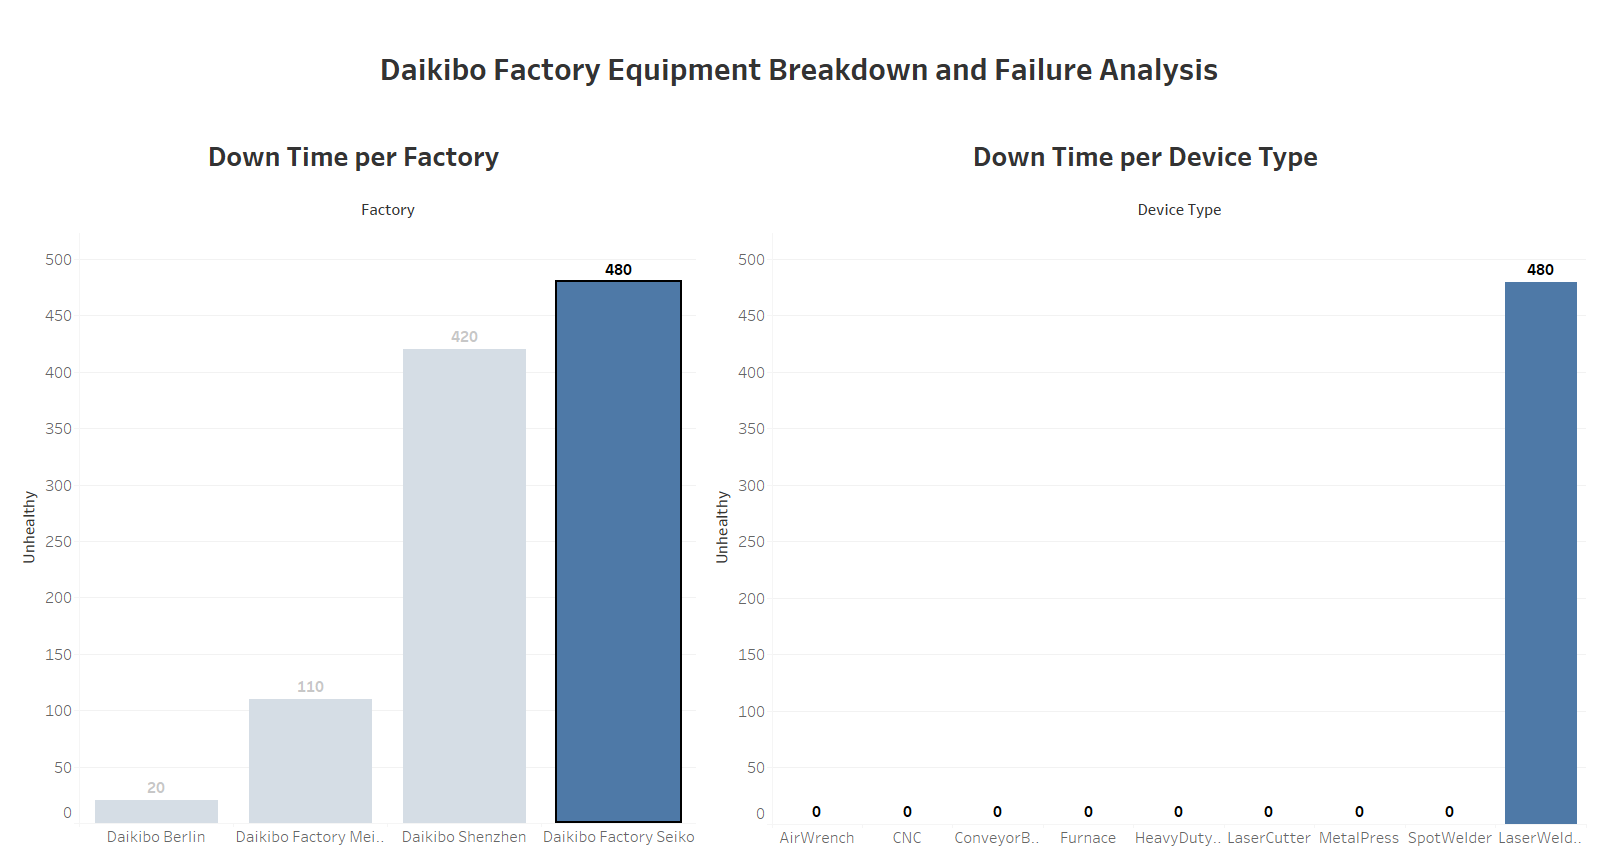

What the dashboard file says about the page in this screenshot:
{"tool":"tableau","page":{"name":"Dashboard","canvas":[1000,1000],"units":"permille","ordinal":0},"visuals":[{"type":"title","box":[5,9.3,990,141.9]},{"type":"worksheet","title":"Down Time per Factory","mark":"Bar","rows":["Calculation_879046358512263168"],"cols":["factory"],"box":[5,151.2,433.1,839.5]},{"type":"worksheet","title":"Down Time per Device Type","mark":"Bar","rows":["Calculation_879046358512263168"],"cols":["deviceType"],"box":[438.1,151.2,556.9,839.5]}]}

Visuals, with their boxes on the dashboard's canvas, which has no fixed pixel size, in thousandths of its width and height (x1, y1, x2, y2). These are canvas units, not pixel positions in the 1598x858 screenshot, which may show the page scaled, cropped or inside an application window:
title: bbox=[5, 9, 995, 151]
"Down Time per Factory" worksheet (Bar marks): bbox=[5, 151, 438, 991]
"Down Time per Device Type" worksheet (Bar marks): bbox=[438, 151, 995, 991]
